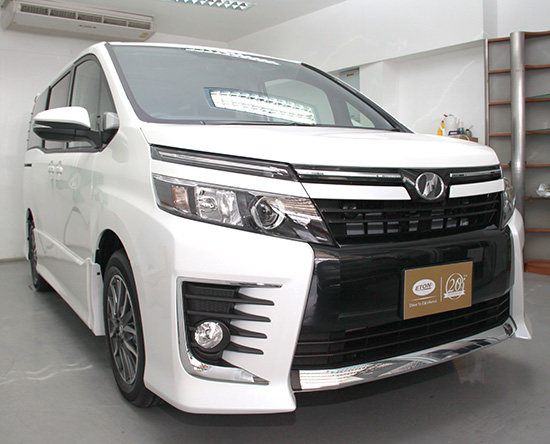van: (21, 40, 533, 418)
